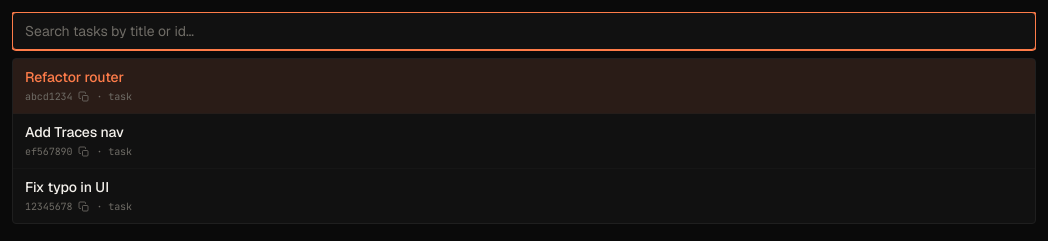
Scenario: TaskPicker component › shows an empty-state message when no tasks match
This screenshot has width=1048, height=241.
In the dropdown with test id "task-picker-input": (524, 31) [12,12,1036,50], type "zzzznomatch"
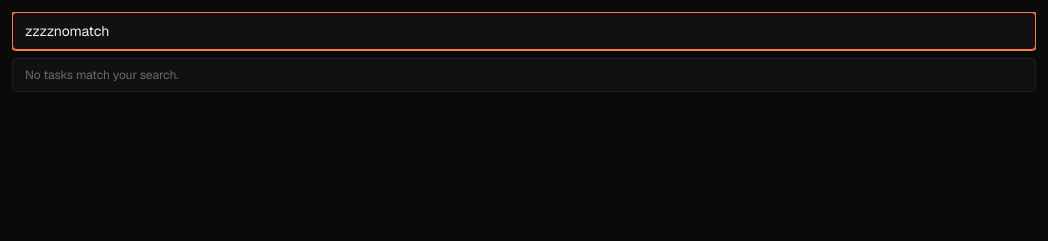
Check: the list item with test id "task-picker-empty" reads "No tasks match your search.", box [25,67,179,83]
